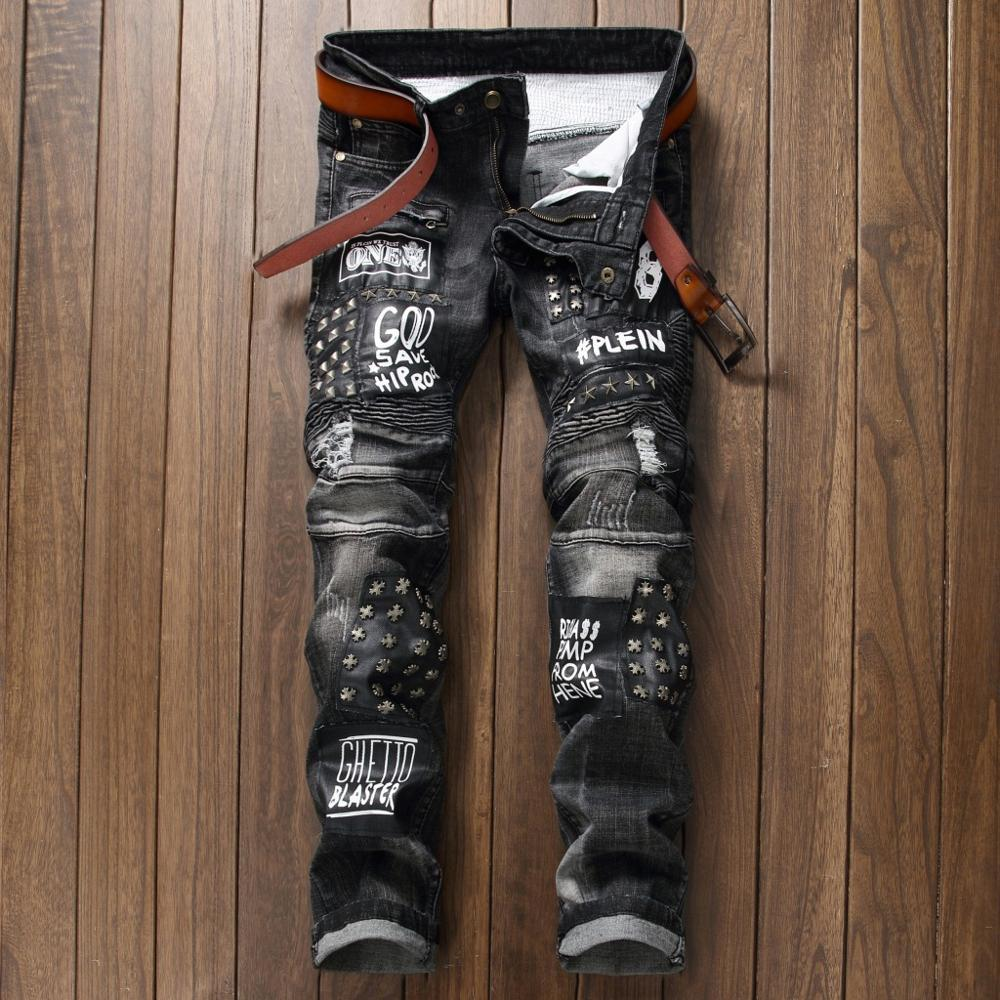jeans: (253, 9, 742, 975)
